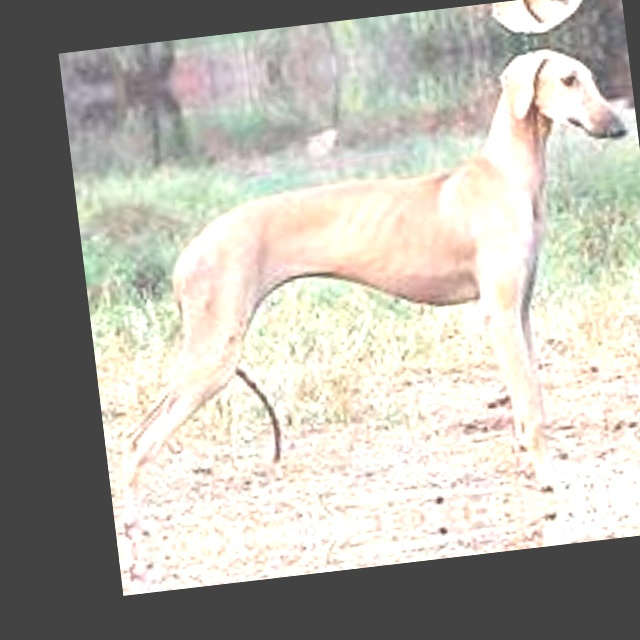dog: (106, 31, 640, 548), (160, 487, 640, 591), (101, 0, 624, 90)
